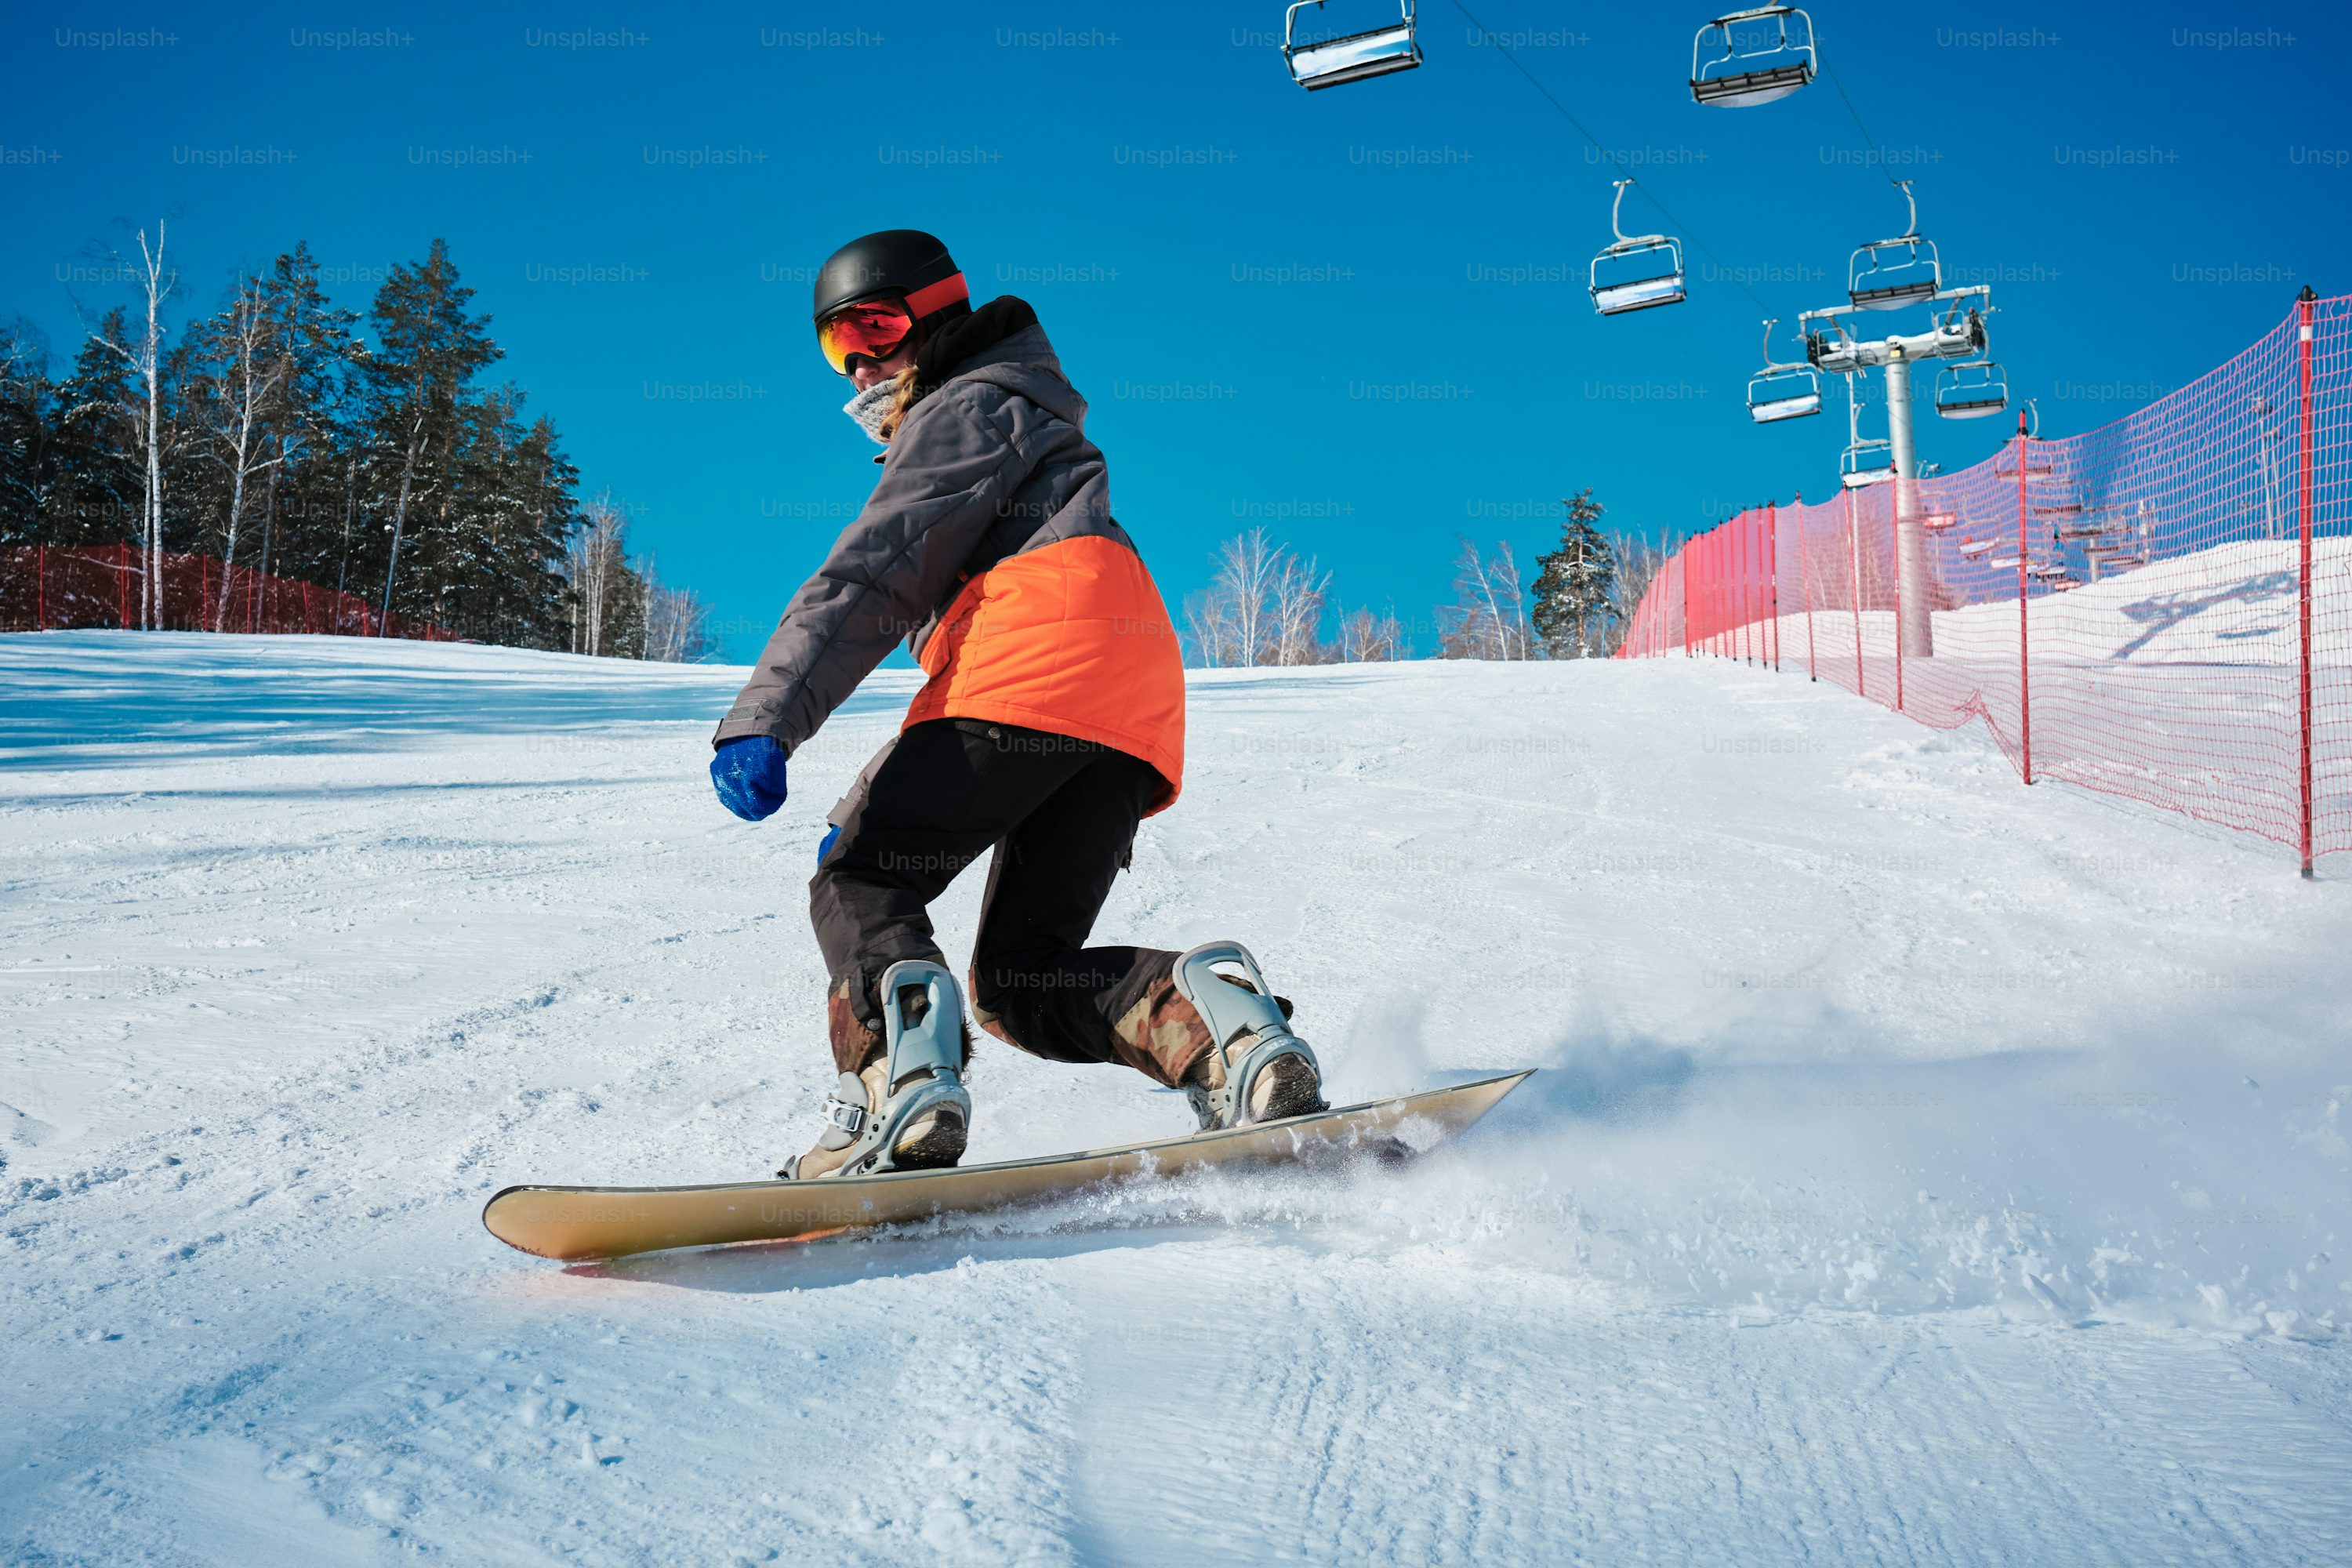snowboarder: (443, 152, 1566, 1284)
